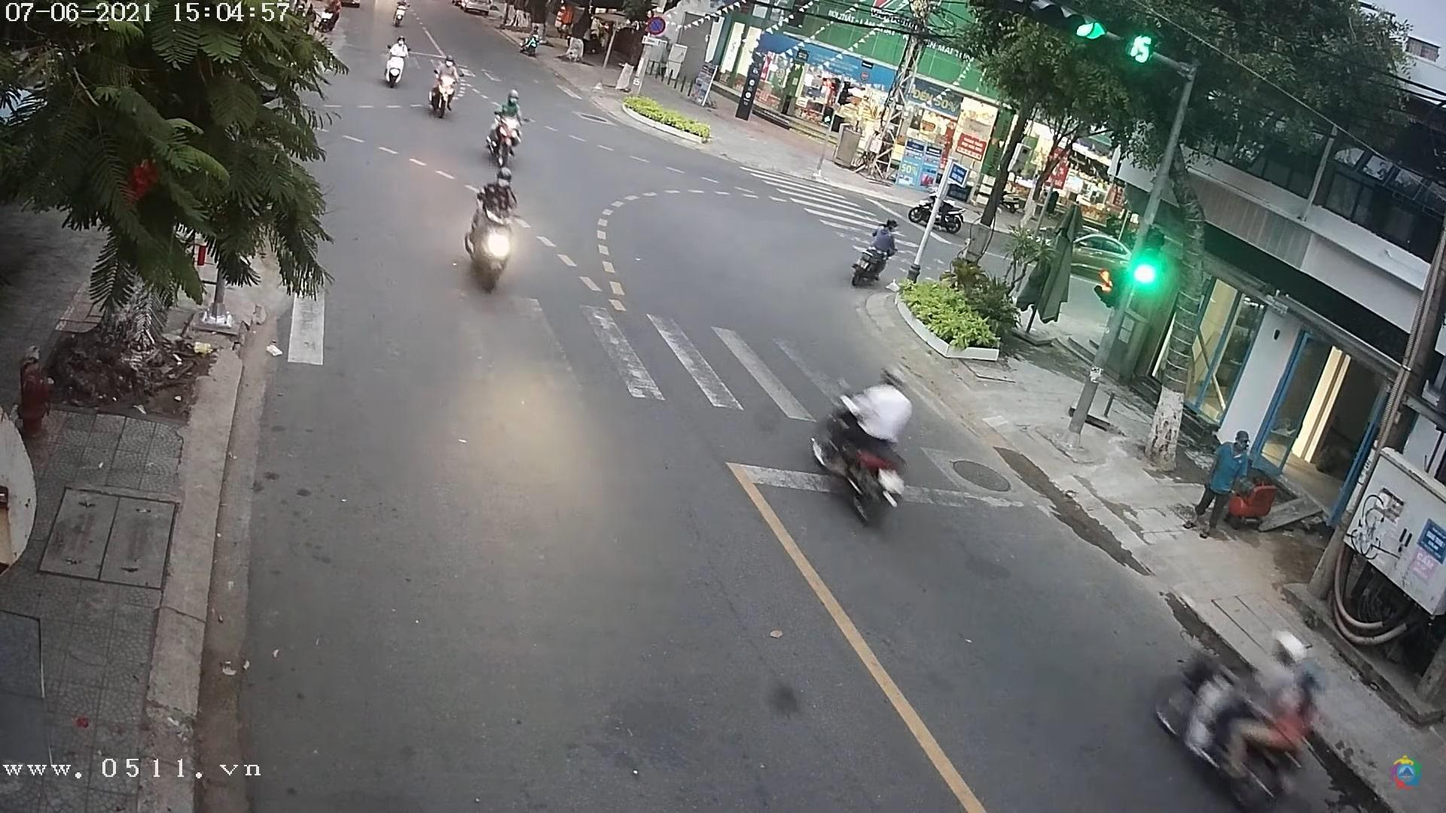motorbike: (462, 187, 514, 294), (487, 104, 527, 164), (426, 68, 461, 126), (381, 44, 406, 88)
